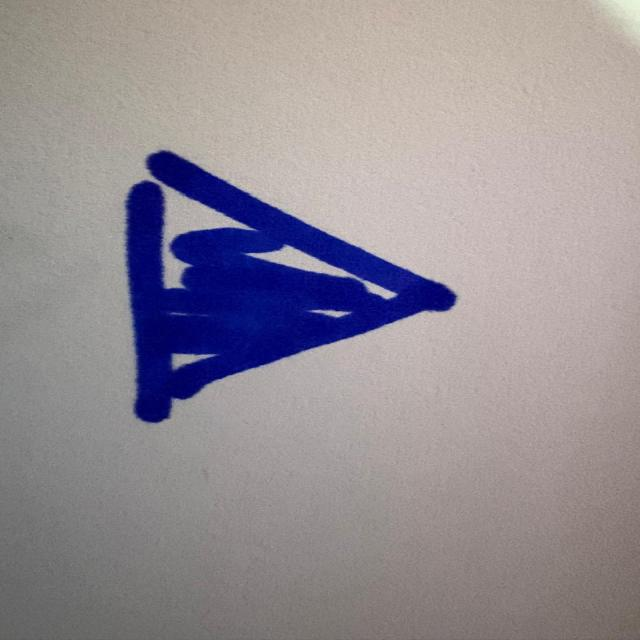Triangle: (112, 141, 469, 431)
